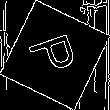P_E: (25, 30, 85, 80)
